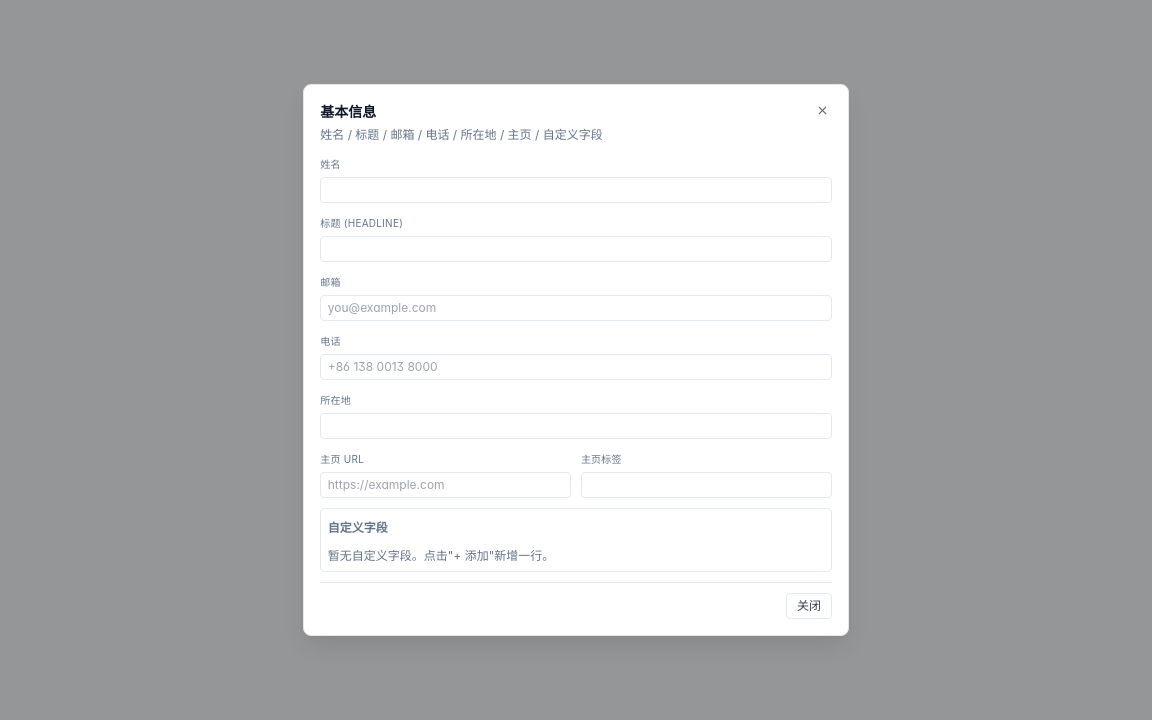
Test case: BasicsDialog (AC-02, AC-04, AC-08c, AC-09, AC-02b) › invalid email surfaces inline error and toasts warn (AC-02b)
Step 1. Type "not-an-email" into the field with test id "basics-email" → point(576, 308), box [320,295,832,321]
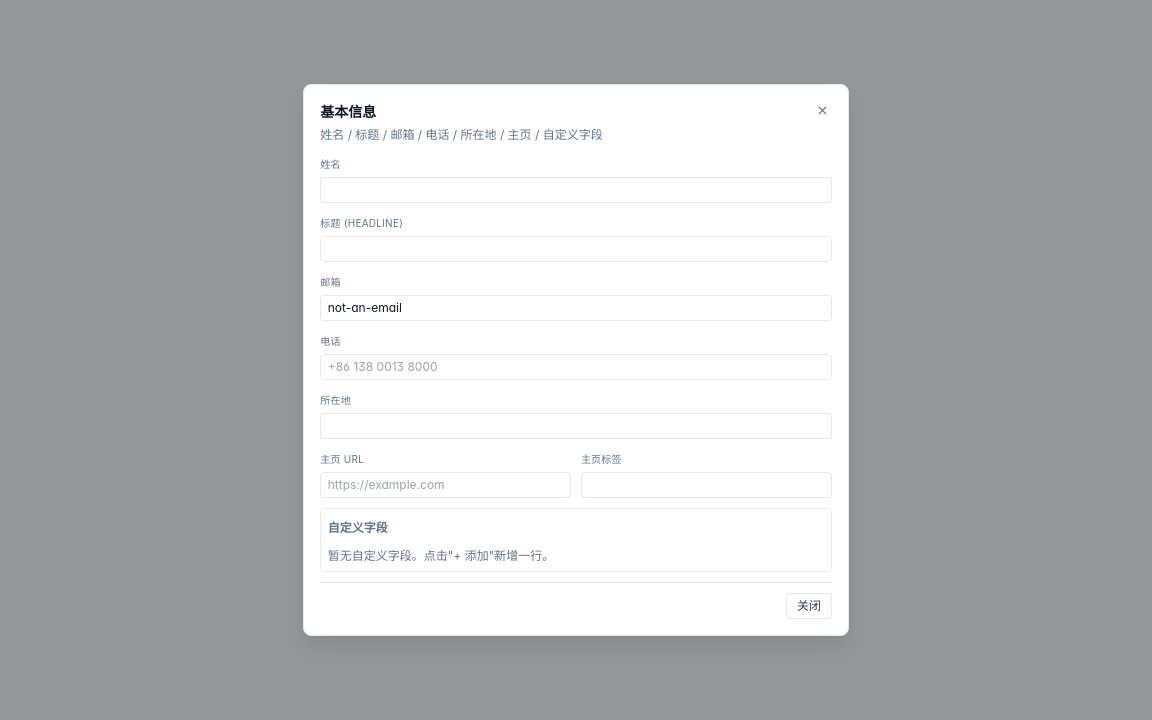
Step 2. Leave the field with test id "basics-email", box [320,295,832,321]
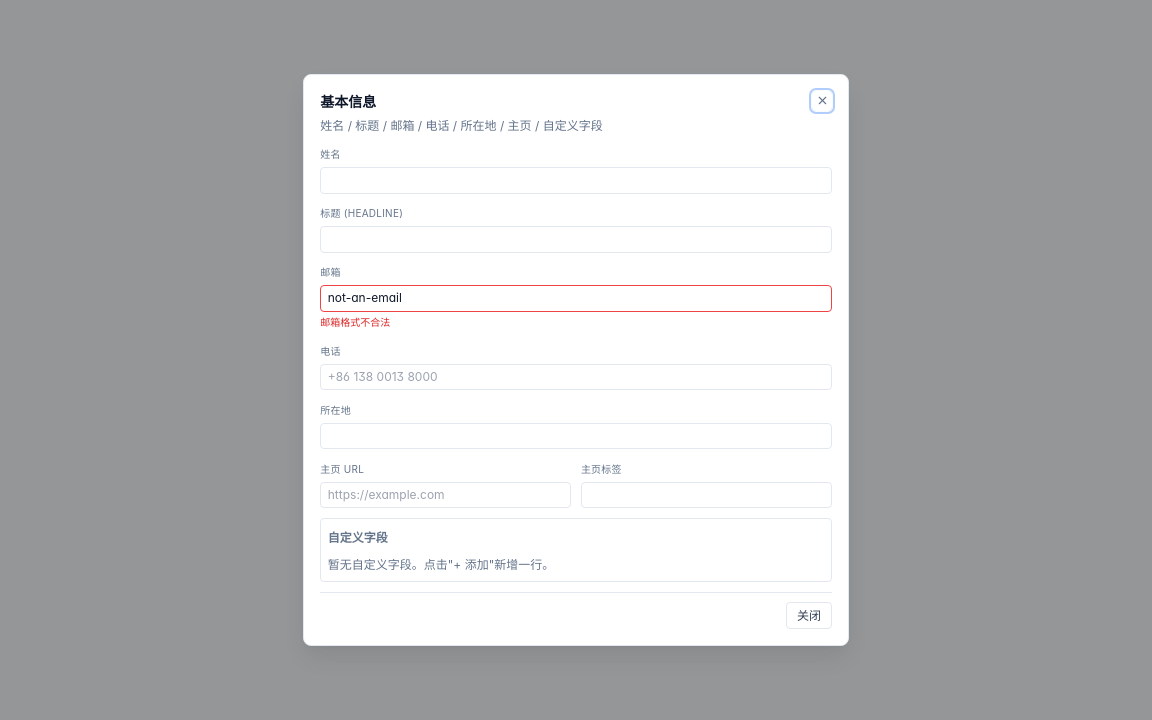
Result: the message "邮箱格式不合法" is shown at [320,316,390,328]
